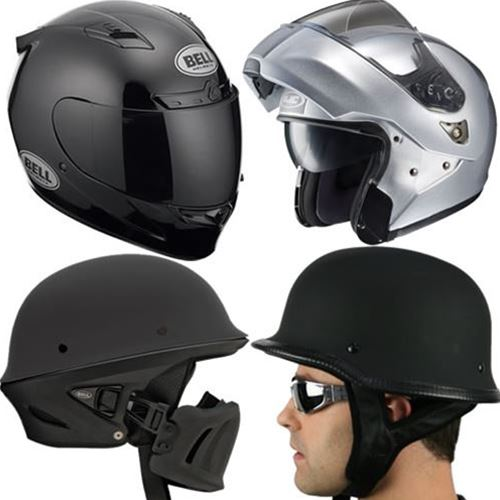with_helmet: (4, 1, 244, 266), (244, 2, 498, 247), (3, 252, 254, 498), (252, 246, 500, 489)
